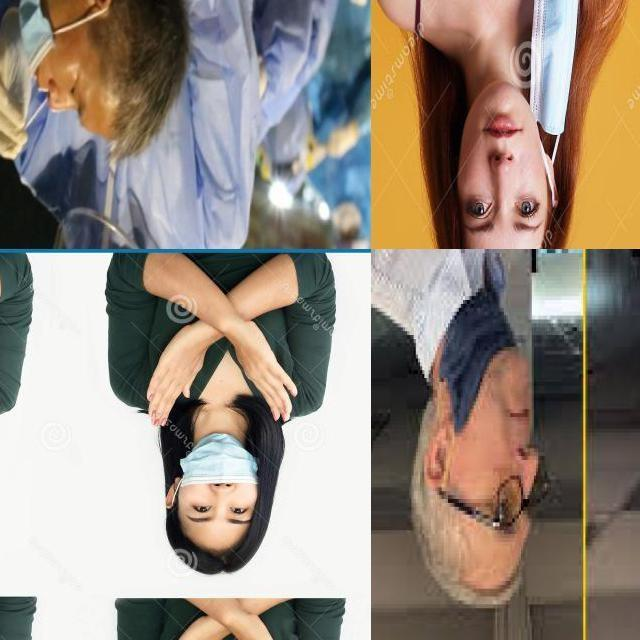hairnet: (440, 284, 545, 481), (18, 0, 76, 130), (183, 423, 259, 508)
